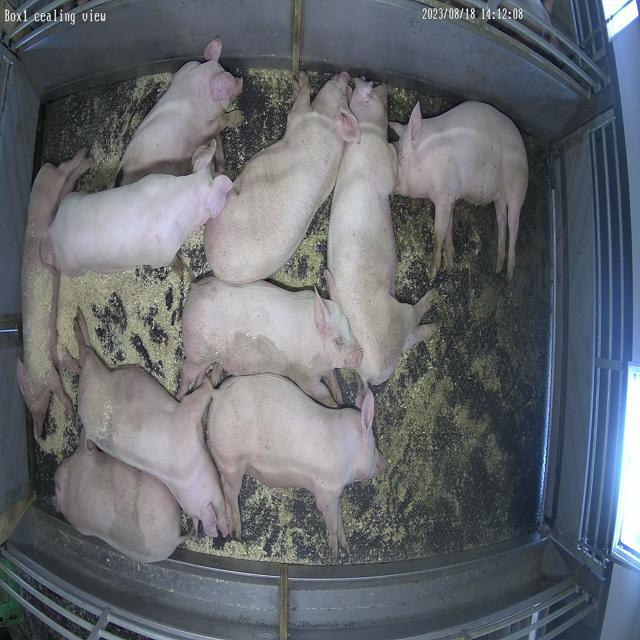Dirt: (342, 146, 550, 564)
Pig: (328, 78, 438, 386), (77, 315, 228, 538), (207, 374, 387, 558), (204, 71, 359, 284), (45, 144, 233, 274), (392, 101, 530, 278), (17, 149, 91, 436), (118, 38, 243, 184)
